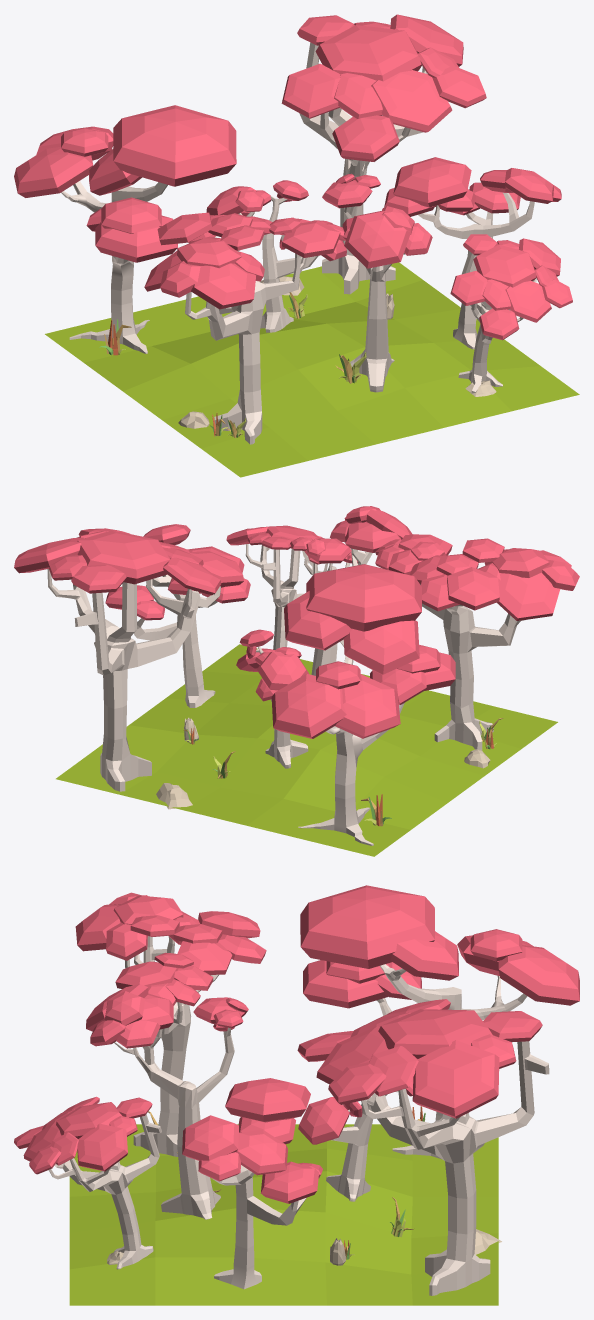
File: jacky_chunk_2_GOED.fbx
3 renders of one model, top to bottom at view 1: azimuth 30°, elevation 25°; view 2: azimuth 150°, elevation 25°; view 3: azimuth 270°, elevation 25°, orthographic. The views are drawn at different scales.
Parts seen in each view (by area): view 1: tile, boom2_kroon_MOD, bladeren_pasted__left_leafs_bladeren_pasted__tree_bladeren_g (×10), boomkroon_bladeren, boom2_kroon_MOD_2, bladeren_pasted__pSphere3_bladeren_pasted__left_leafs_blader, boomstam_takken, pCylinder2, boom2_stam_MOD, pSphere3, pCylinder1, stam (+5 smaller); view 2: tile, bladeren_pasted__left_leafs_bladeren_pasted__tree_bladeren_g (×12), boomkroon_bladeren, boom2_stam_MOD, boom2_kroon_MOD, bladeren_pasted__pSphere3_bladeren_pasted__left_leafs_blader, boomstam_takken, pCylinder2, pCylinder1, boom2_stam_MOD_2, boom2_kroon_MOD_2, pasted__pSphere6 (+6 smaller); view 3: tile, bladeren_pasted__left_leafs_bladeren_pasted__tree_bladeren_g (×12), boom2_kroon_MOD, boomkroon_bladeren, boom2_stam_MOD, bladeren_pasted__pSphere3_bladeren_pasted__left_leafs_blader (×2), boom2_kroon_MOD_2, boom2_stam_MOD_2, boomstam_takken, pCylinder1, stam, pCylinder2 (+9 smaller).
Part boxes in pixels (x1=…): tile: x1=45, y1=262, x2=579, y2=477; boom2_kroon_MOD: x1=281, y1=14, x2=486, y2=161; bladeren_pasted__left_leafs_bladeren_pasted__tree_bladeren_g (×10): x1=14, y1=126, x2=553, y2=262; boomkroon_bladeren: x1=144, y1=212, x2=345, y2=309; boom2_kroon_MOD_2: x1=450, y1=234, x2=572, y2=340; bladeren_pasted__pSphere3_bladeren_pasted__left_leafs_blader: x1=113, y1=105, x2=236, y2=186; boomstam_takken: x1=185, y1=235, x2=312, y2=444; pCylinder2: x1=61, y1=181, x2=167, y2=353; boom2_stam_MOD: x1=299, y1=42, x2=426, y2=294; pSphere3: x1=344, y1=210, x2=410, y2=268; pCylinder1: x1=418, y1=192, x2=534, y2=349; stam: x1=350, y1=274, x2=394, y2=392; tile: x1=56, y1=644, x2=557, y2=856; bladeren_pasted__left_leafs_bladeren_pasted__tree_bladeren_g (×12): x1=105, y1=524, x2=455, y2=738; boomkroon_bladeren: x1=375, y1=534, x2=579, y2=620; boom2_stam_MOD: x1=47, y1=569, x2=220, y2=791; boom2_kroon_MOD: x1=14, y1=528, x2=243, y2=595; bladeren_pasted__pSphere3_bladeren_pasted__left_leafs_blader: x1=306, y1=564, x2=421, y2=631; boomstam_takken: x1=420, y1=584, x2=526, y2=750; pCylinder2: x1=298, y1=639, x2=404, y2=845; pCylinder1: x1=134, y1=574, x2=217, y2=707; boom2_stam_MOD_2: x1=245, y1=544, x2=349, y2=649; boom2_kroon_MOD_2: x1=226, y1=525, x2=358, y2=564; pasted__pSphere6: x1=257, y1=651, x2=308, y2=690; tile: x1=69, y1=1124, x2=498, y2=1305; bladeren_pasted__left_leafs_bladeren_pasted__tree_bladeren_g (×12): x1=182, y1=929, x2=579, y2=1203; boom2_kroon_MOD: x1=297, y1=999, x2=542, y2=1118; boomkroon_bladeren: x1=75, y1=892, x2=266, y2=1006; boom2_stam_MOD: x1=361, y1=1041, x2=549, y2=1295; bladeren_pasted__pSphere3_bladeren_pasted__left_leafs_blader (×2): x1=236, y1=885, x2=434, y2=1175; boom2_kroon_MOD_2: x1=14, y1=1096, x2=152, y2=1174; boom2_stam_MOD_2: x1=48, y1=1114, x2=161, y2=1269; boomstam_takken: x1=125, y1=936, x2=218, y2=1156; pCylinder1: x1=211, y1=1165, x2=306, y2=1289; stam: x1=161, y1=1103, x2=220, y2=1219; pCylinder2: x1=376, y1=964, x2=527, y2=1159.
Size of the model in its own units: 66.05 by 34.47 by 65.97.
